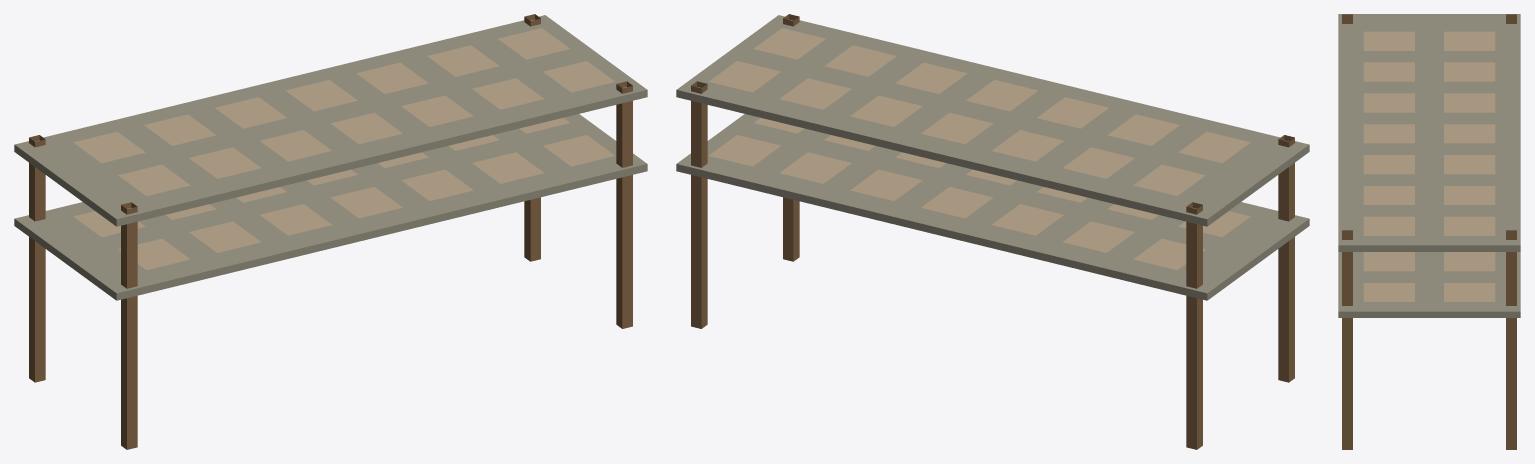
The model's file is fishrack.glb.
3 renders of one model, left to right at view 1: azimuth 30°, elevation 25°; view 2: azimuth 150°, elevation 25°; view 3: azimuth 270°, elevation 25°, orthographic. The views are drawn at different scales.
Parts seen in each view (by area): view 1: fishrack; view 2: fishrack; view 3: fishrack.
Part boxes in pixels (x1,y1,x2,y2): fishrack: (14, 14, 647, 449); fishrack: (676, 14, 1309, 449); fishrack: (1338, 14, 1520, 449).
Size of the model in its own units: 3 by 1.3 by 1.
